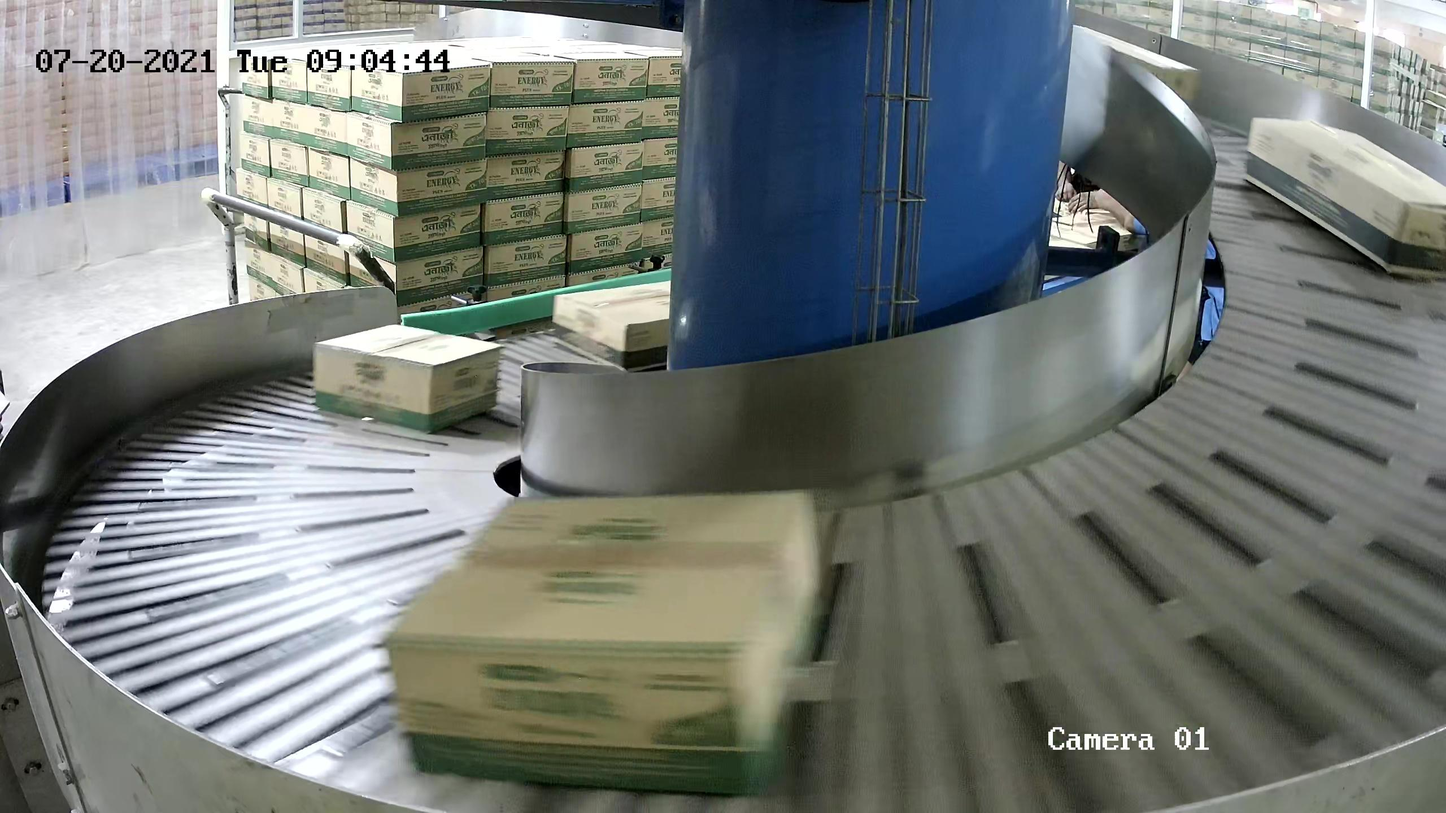Box: (385, 485, 827, 789), (1242, 114, 1446, 281), (311, 323, 508, 435), (552, 278, 671, 374)
